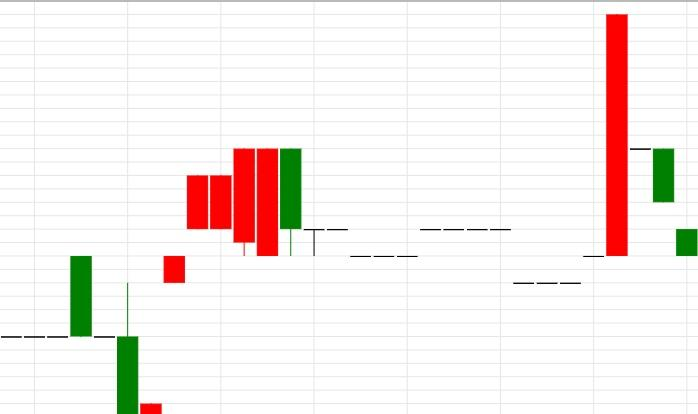three_white_soldiers_rise: (69, 174, 209, 414)
